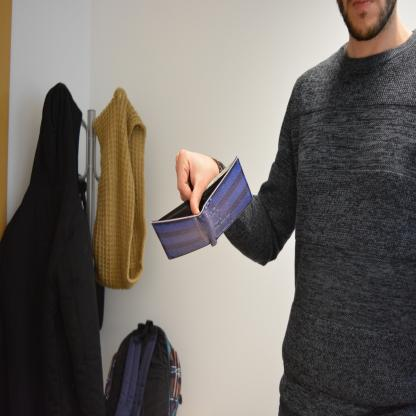monedero: (150, 155, 254, 260)
